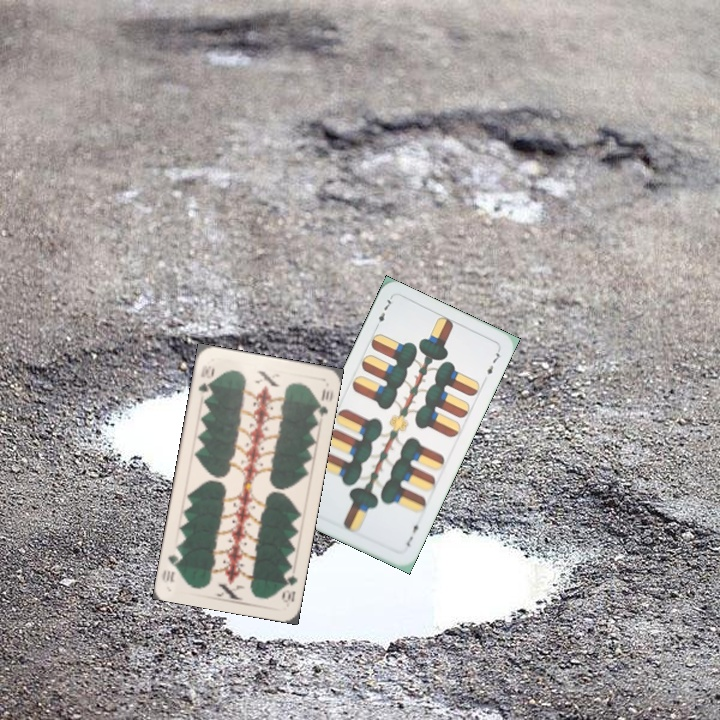E7: (372, 294, 394, 332), (402, 517, 423, 549)
G10: (278, 566, 300, 605), (194, 361, 214, 395)
